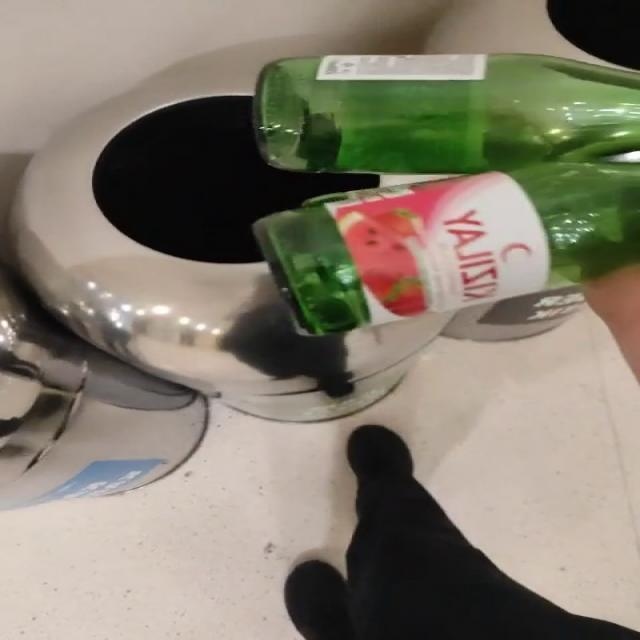Bin: (11, 0, 638, 422)
Glass: (255, 53, 639, 335)
